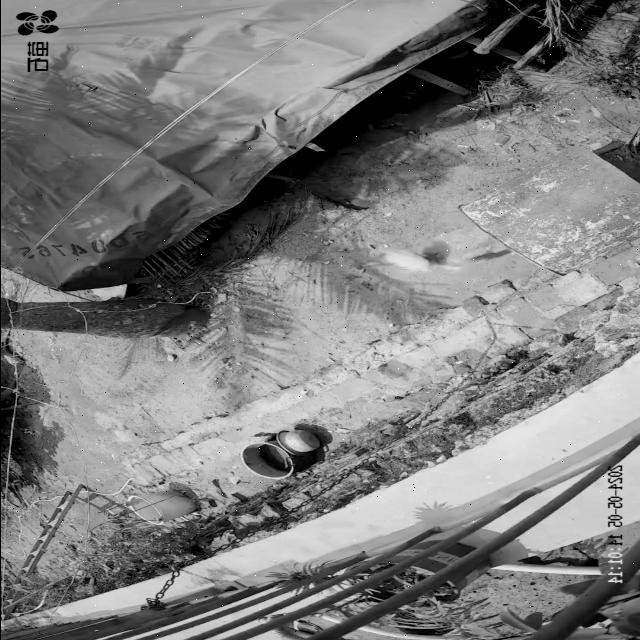dog: (384, 227, 514, 273)
